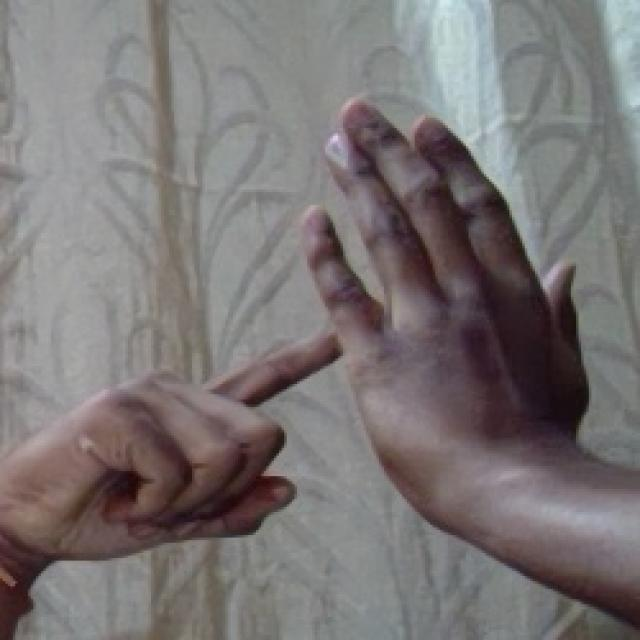Alphabet-R: (25, 84, 604, 581)
